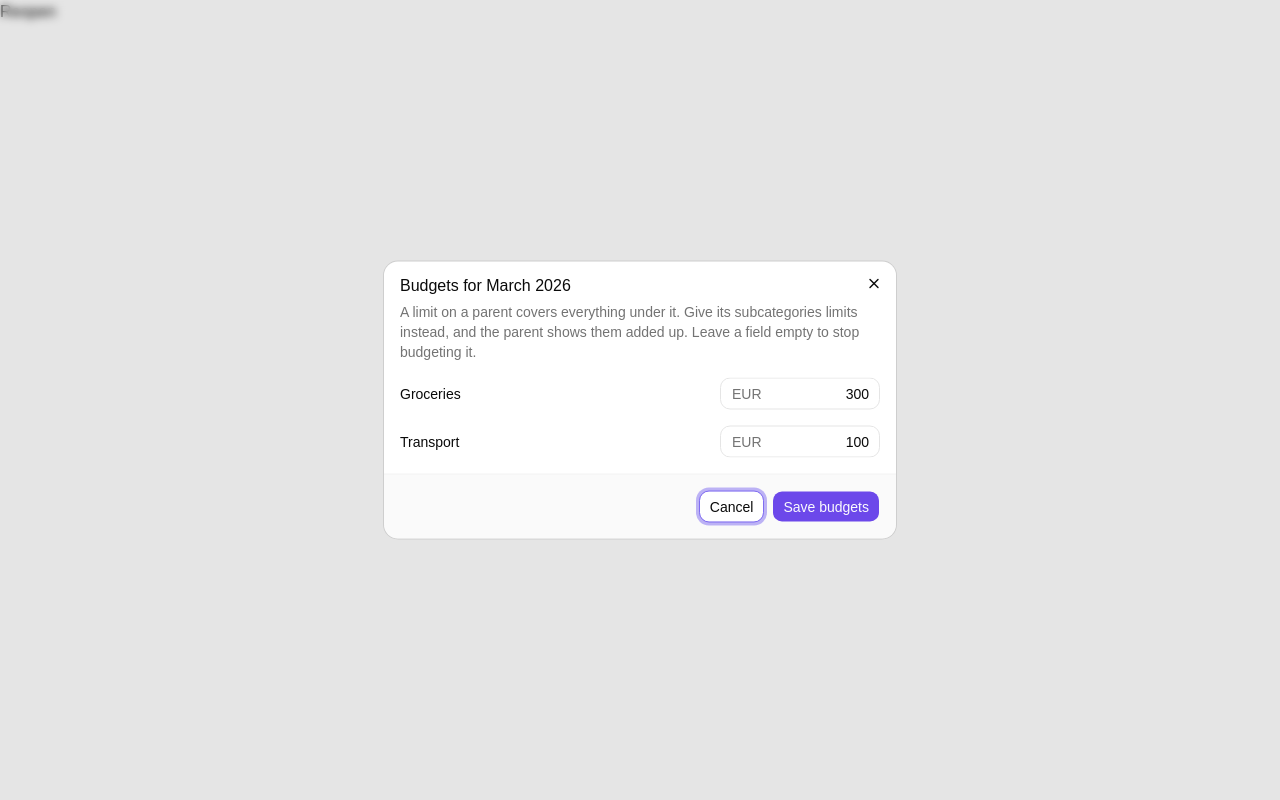
confirming what a save removes › counts a limit zeroed out, since a zero limit is not budgeted either
Replace the text in the field labelled "Groceries" with "0" at [800, 394], box [720,378,880,410]
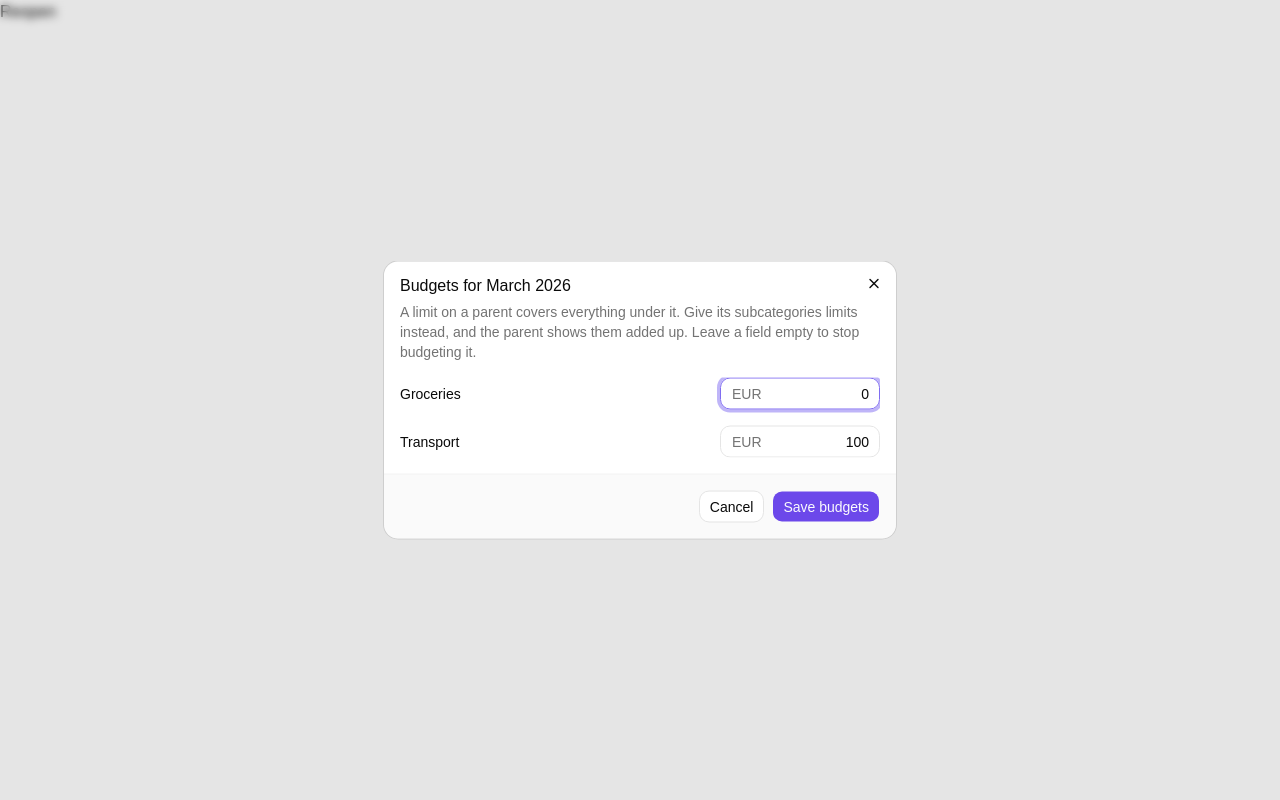
Click the button "Save budgets" at [826, 506], box [772,490,880,522]
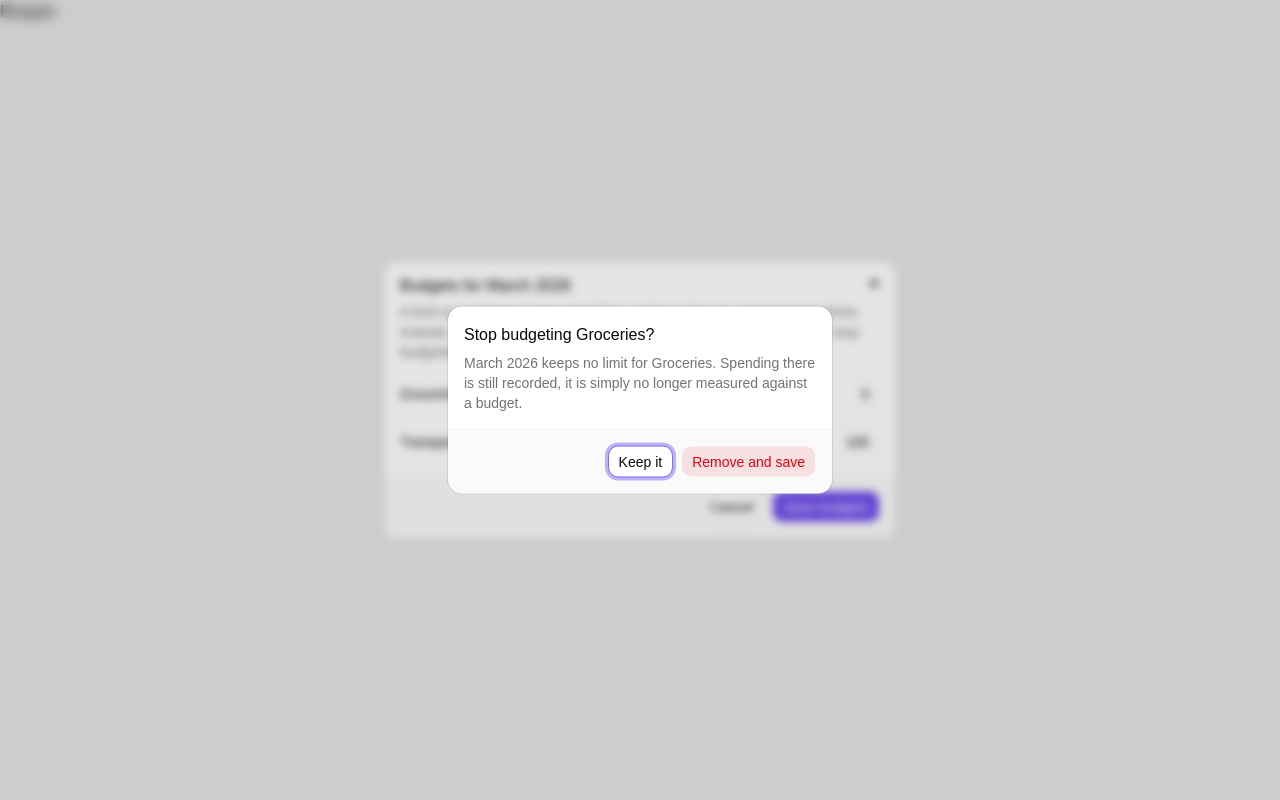
Check: the heading "Stop budgeting Groceries?" is shown, box [464,322,654,346]
